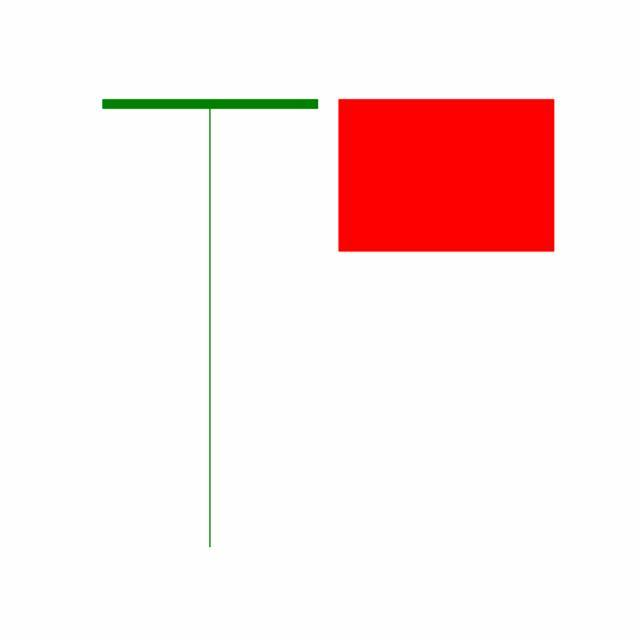Marubozu: (328, 99, 566, 255)
